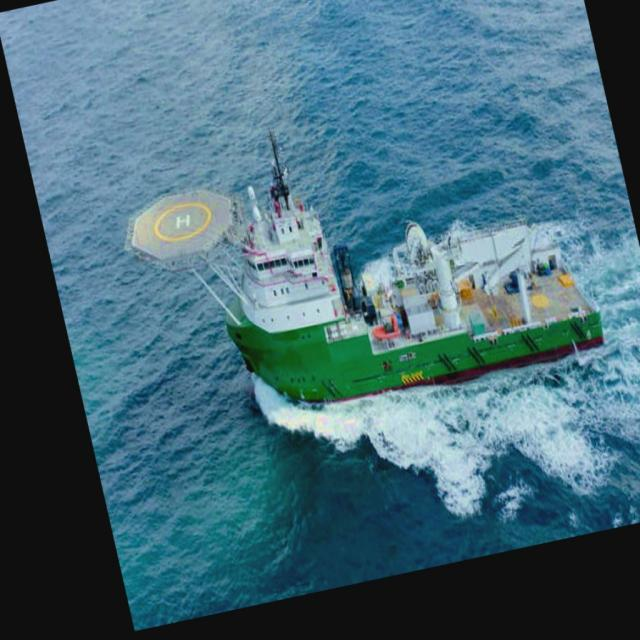helipad: (150, 199, 212, 242)
